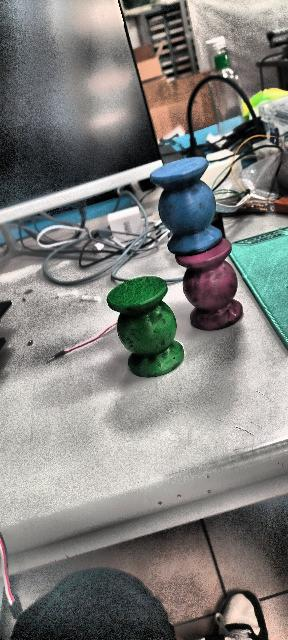blue: (149, 155, 223, 255)
green: (110, 275, 186, 374)
red: (177, 252, 245, 334)
